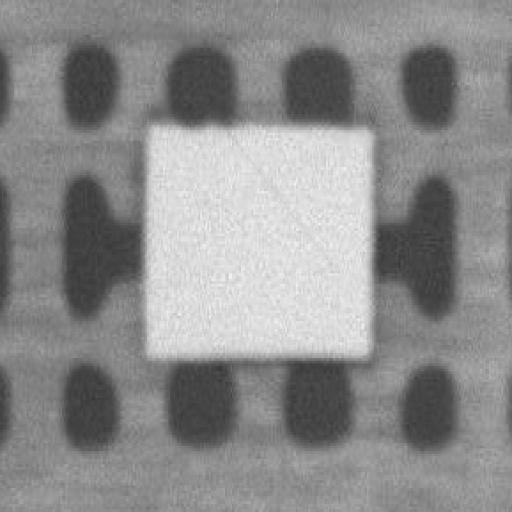DIE_CRACK: (340, 87, 502, 179)
